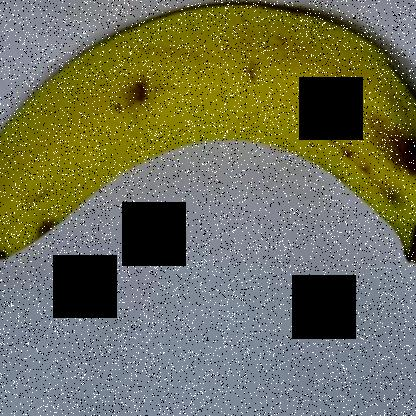freshripe: (0, 1, 415, 293)
